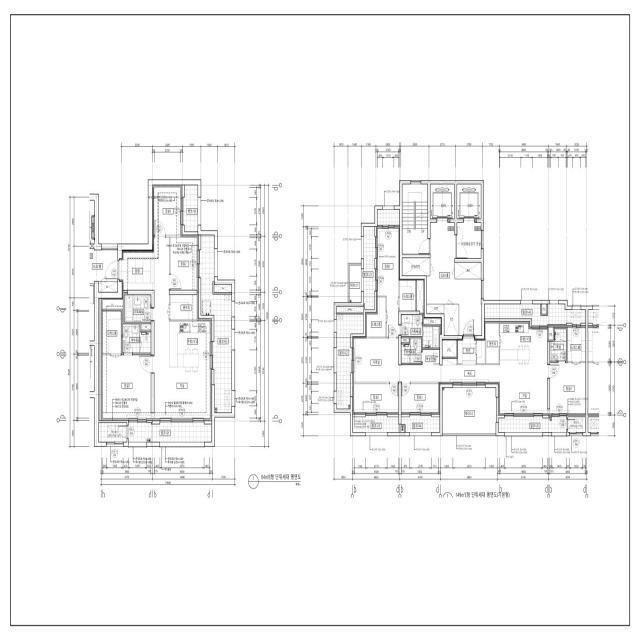space_balconi: (201, 235, 232, 413), (337, 315, 364, 409), (442, 388, 496, 434), (485, 304, 585, 326), (129, 422, 211, 442), (499, 417, 585, 433), (364, 227, 375, 310), (353, 416, 399, 432), (183, 185, 198, 232), (401, 416, 440, 432), (349, 265, 361, 302), (377, 210, 399, 225)
space_bedroom: (101, 355, 151, 420), (376, 227, 399, 337), (550, 363, 585, 415), (153, 185, 182, 235), (353, 384, 398, 414), (401, 384, 440, 414)
space_dressroom: (101, 311, 121, 354), (366, 297, 386, 337), (568, 326, 586, 361), (400, 280, 416, 311)
space_elevator: (430, 184, 454, 219), (457, 184, 481, 219)
space_elevator_hall: (427, 223, 482, 336), (90, 249, 118, 283)
space_front: (119, 251, 154, 290), (458, 336, 485, 365)
space_kitchen: (169, 319, 212, 376), (500, 322, 547, 365)
space_living_room: (353, 337, 548, 415), (153, 238, 212, 421)
space_multipurpose_space: (171, 235, 198, 290)
space_other: (170, 295, 198, 319), (99, 423, 127, 442), (101, 299, 123, 322), (402, 258, 430, 276), (444, 304, 459, 336), (455, 262, 481, 279), (442, 339, 457, 357), (417, 280, 424, 313), (99, 282, 118, 292), (337, 306, 364, 313), (427, 304, 444, 314), (214, 285, 232, 292), (424, 318, 441, 325), (141, 324, 151, 330), (549, 326, 553, 340), (542, 304, 547, 314), (401, 331, 409, 336)
space_staircase: (402, 184, 428, 254)
space_toilet: (401, 315, 439, 348), (401, 338, 440, 365), (122, 324, 151, 353), (125, 295, 151, 322), (550, 329, 566, 361)
